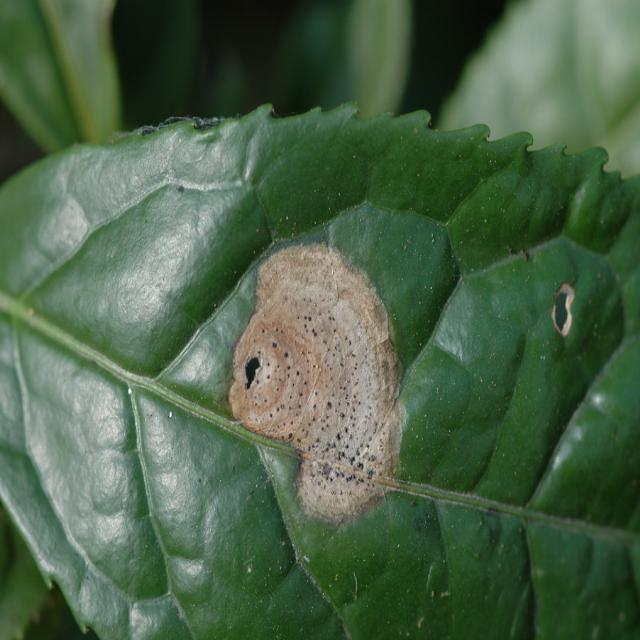Tea cloud leaf blight: (229, 239, 427, 515)
